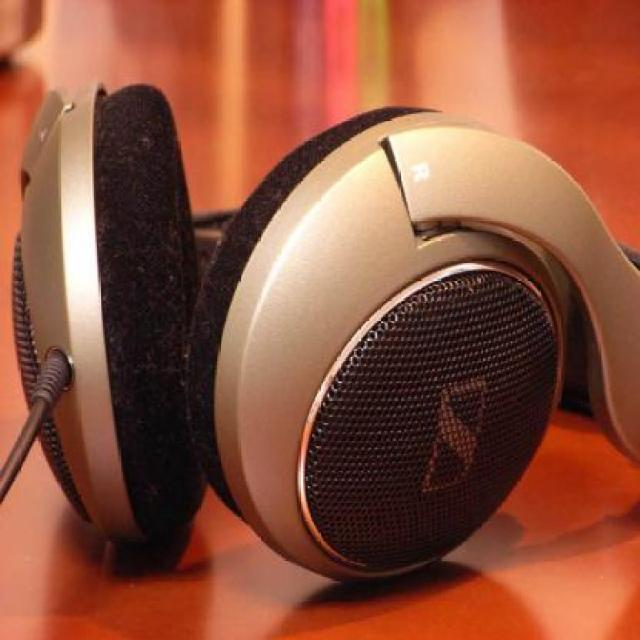earphone: (28, 63, 640, 587)
